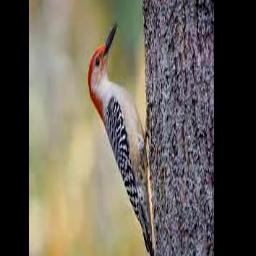Woodpecker: (88, 22, 159, 256)
